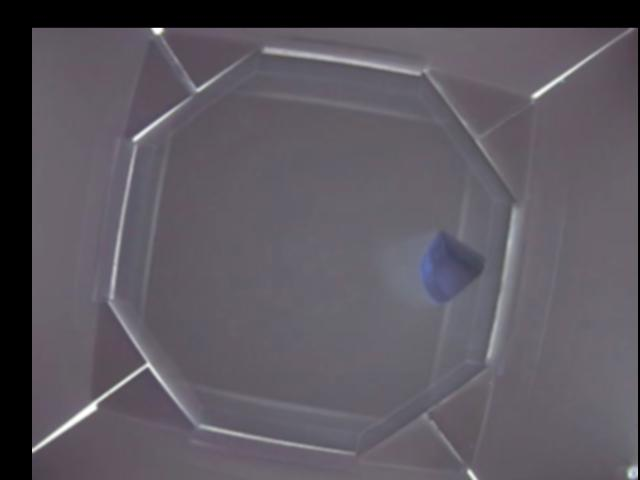Mooli: (419, 231, 483, 306)
